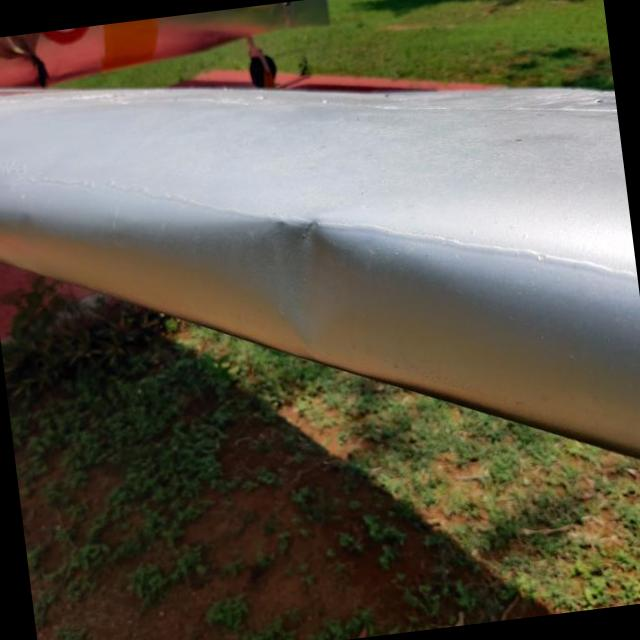Dent: (233, 215, 369, 368)
